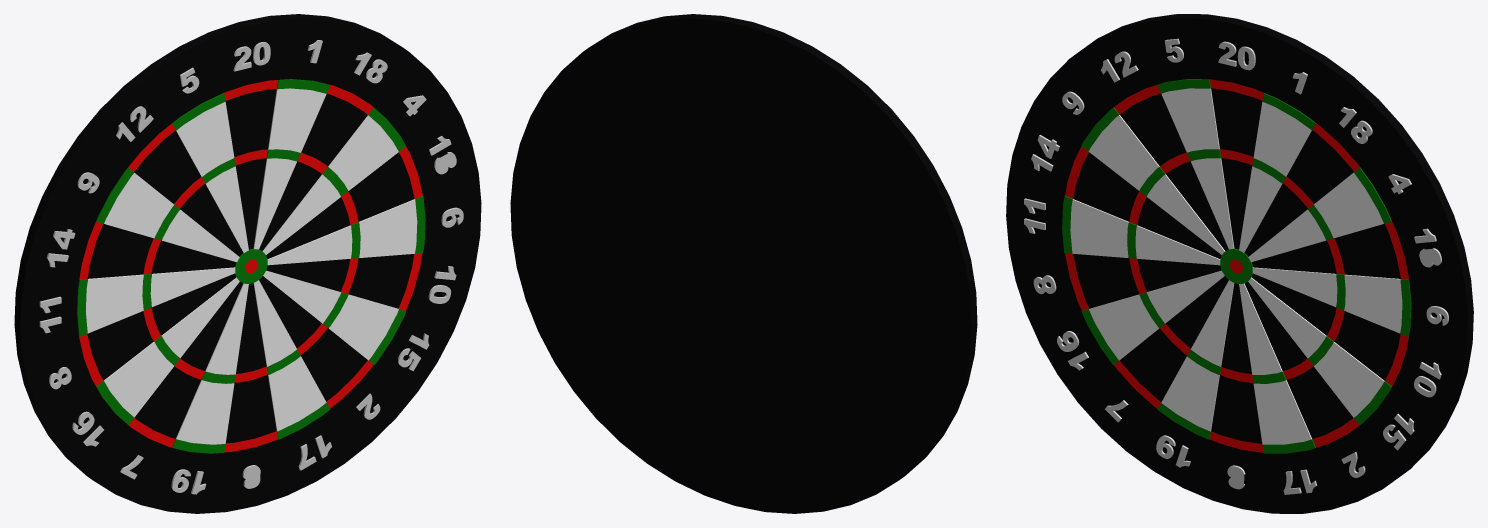
File: Dart.fbx
3 renders of one model, left to right at view 1: azimuth 30°, elevation 25°; view 2: azimuth 150°, elevation 25°; view 3: azimuth 330°, elevation 25°, orthographic.
Visible parts, largest first — view 1: Group2, G_20_2_1, G_13_1, G_18_1, G_19_1, G_16_1, G_12_1; view 2: Group2; view 3: Group2, G_20_2_1, G_13_1, G_10_1, G_19_1, G_18_1, G_16_1.
Part boxes in pixels (x1,y1,x2,y2): Group2: (14,14,481,513); G_20_2_1: (233,42,270,71); G_13_1: (429,136,456,174); G_18_1: (354,52,387,83); G_19_1: (171,469,206,494); G_16_1: (72,411,103,446); G_12_1: (116,106,153,141); Group2: (510,14,977,513); Group2: (1006,14,1473,513); G_20_2_1: (1218,41,1255,70); G_13_1: (1414,228,1441,267); G_10_1: (1414,362,1441,397); G_19_1: (1156,435,1190,467); G_18_1: (1339,107,1372,143); G_16_1: (1057,331,1088,370).
Bounding box in the file's own units: 451 × 451 × 12.
